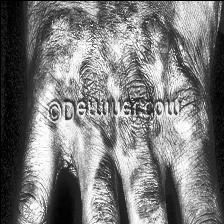Toxin: (94, 0, 137, 72), (39, 7, 89, 67)
